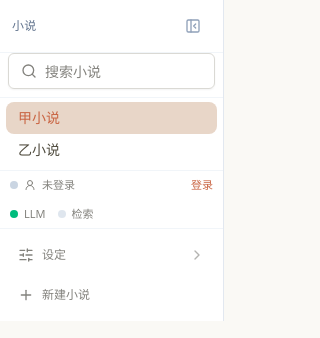
Test: NovelRail › 折叠按钮：切到窄图标栏（首字按钮 + 可展开回来）
Expected: the text "甲小说" is shown, [18, 108, 60, 128]
Click the button named "折叠小说栏": coordinates (193, 26) [175, 8, 211, 44]
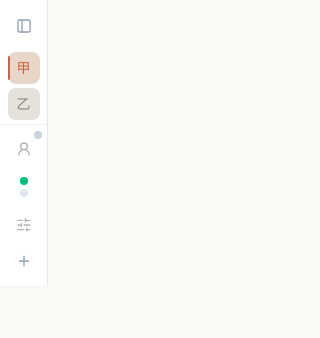
Expected: the button "甲" is shown, [8, 52, 40, 84]
Expected: the button named "展开小说栏" is shown
Click the button named "展开小说栏": coordinates (24, 26) [6, 8, 42, 44]
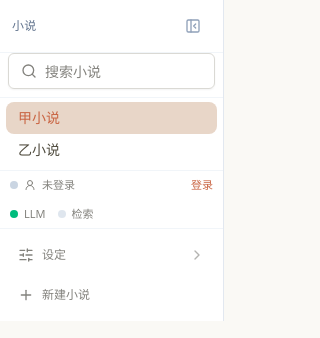
Expected: the text "甲小说" is shown, [18, 108, 60, 128]
